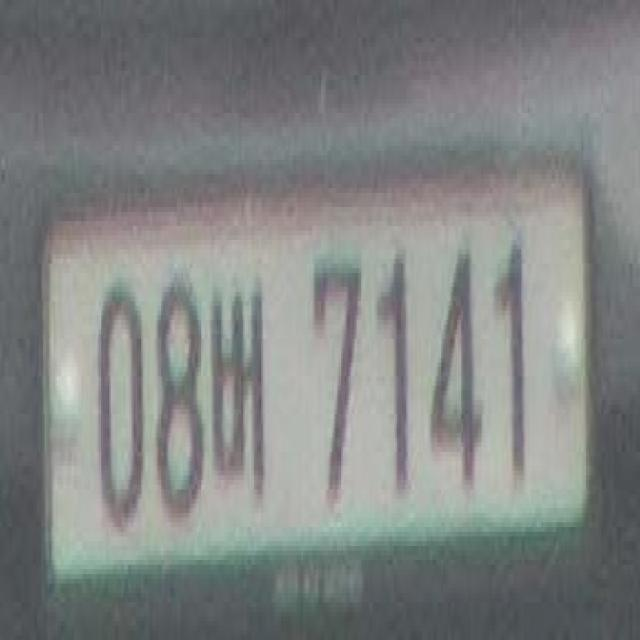illegal_plate: (42, 169, 601, 607)
